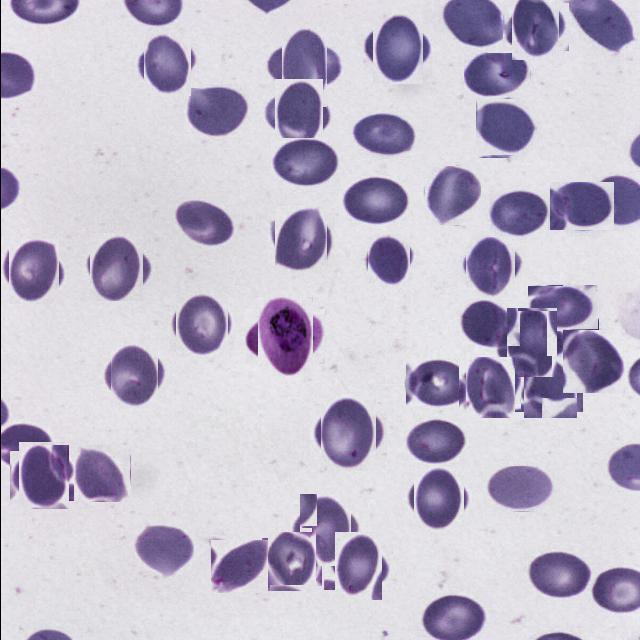difficult: (250, 302, 318, 370)
red blood cell: (314, 398, 380, 466), (272, 36, 336, 98), (562, 328, 624, 392), (338, 175, 412, 227), (85, 236, 147, 298), (294, 498, 356, 560), (367, 18, 428, 78), (270, 210, 330, 270), (501, 313, 561, 373), (13, 446, 72, 506), (520, 355, 579, 415), (268, 84, 327, 144), (183, 84, 248, 138), (270, 138, 340, 188), (460, 236, 520, 294), (476, 98, 536, 156), (172, 295, 230, 354), (424, 166, 481, 226), (484, 466, 558, 512), (525, 550, 593, 600), (132, 524, 197, 576), (328, 538, 386, 596), (408, 470, 466, 528), (5, 242, 62, 300), (527, 285, 598, 331), (73, 445, 130, 502), (105, 346, 162, 403), (507, 0, 564, 56), (173, 196, 236, 246), (138, 36, 194, 92), (405, 358, 468, 407), (463, 52, 530, 98), (350, 113, 417, 159), (549, 182, 613, 230), (459, 298, 518, 350), (462, 360, 516, 416), (210, 540, 267, 593), (264, 535, 318, 589), (404, 418, 466, 465), (489, 190, 548, 238), (364, 236, 412, 284)
